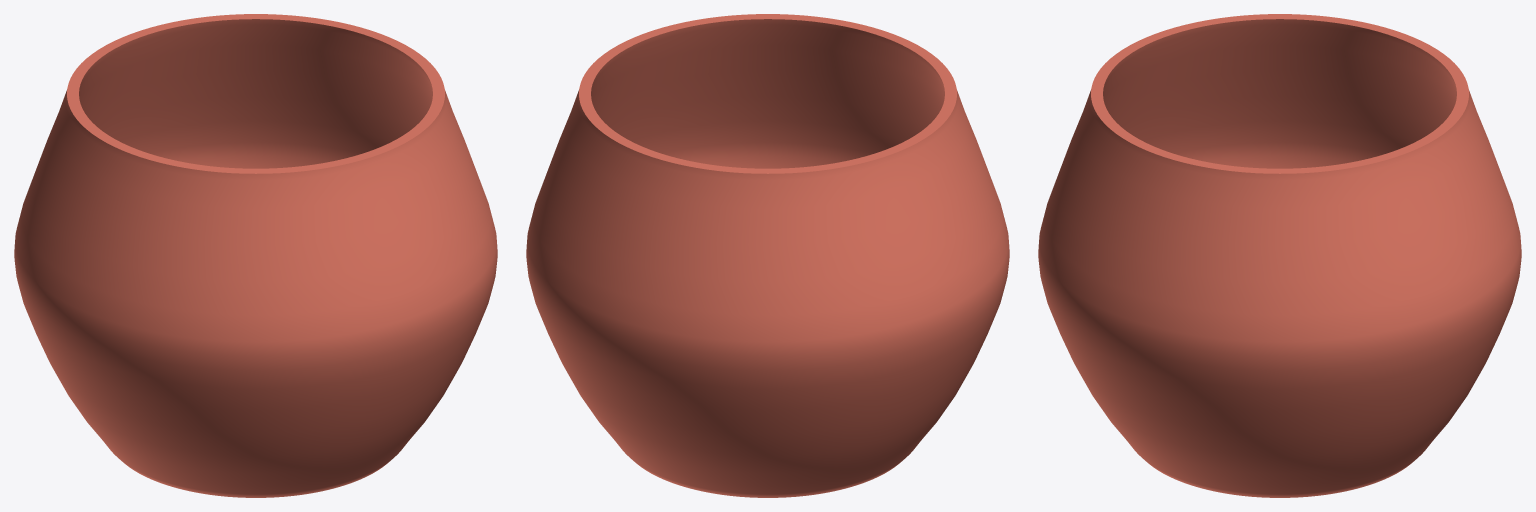
File: studio-loop-coral.glb
The picture shows the model from 3 angles, left to right: view 1: azimuth 30°, elevation 25°; view 2: azimuth 150°, elevation 25°; view 3: azimuth 270°, elevation 25°; orthographic projection.
Visible parts, largest first — view 1: Loop open rounded pot; view 2: Loop open rounded pot; view 3: Loop open rounded pot.
Boxes of the visible parts, bbox=[...] form: Loop open rounded pot: bbox=[14, 14, 497, 497]; Loop open rounded pot: bbox=[526, 14, 1009, 497]; Loop open rounded pot: bbox=[1038, 14, 1521, 497].
Size of the model in its own units: 0.13 by 0.102 by 0.13.
